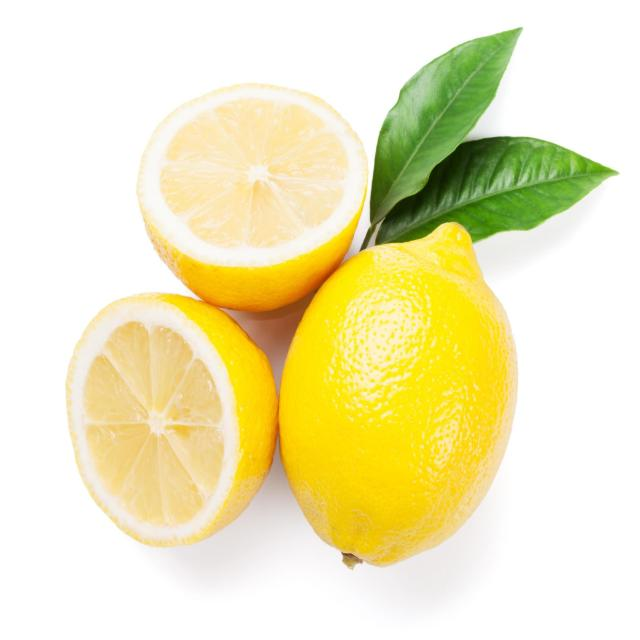lemon: (275, 216, 520, 572), (60, 288, 280, 553), (131, 75, 372, 315)
